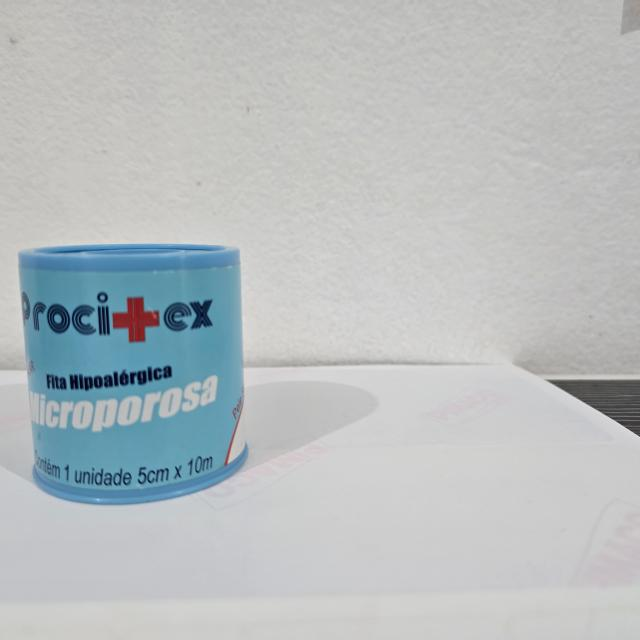procitex: (15, 240, 255, 512)
